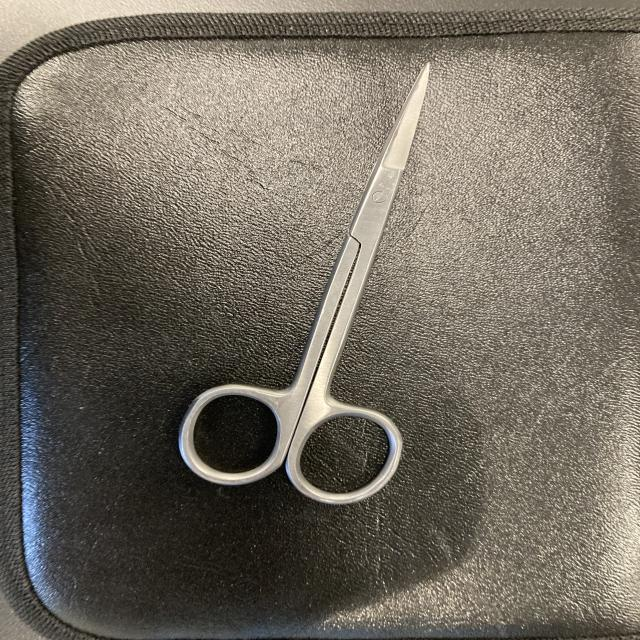scissor: (168, 48, 460, 522)
